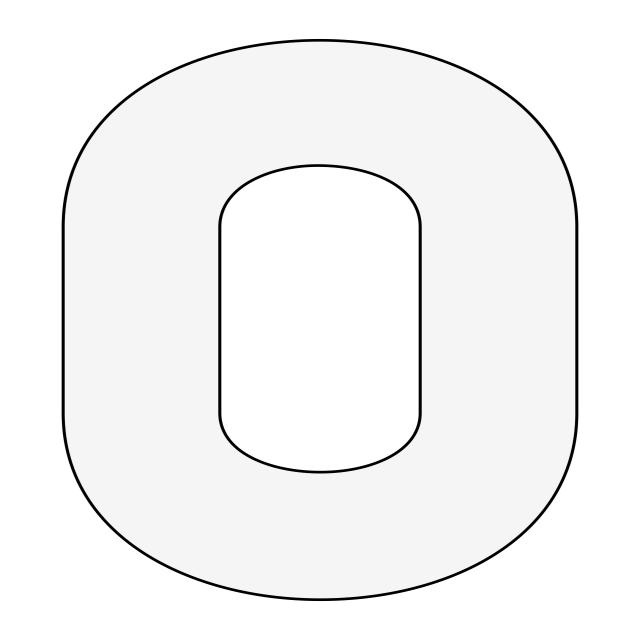O: (15, 19, 605, 618)
